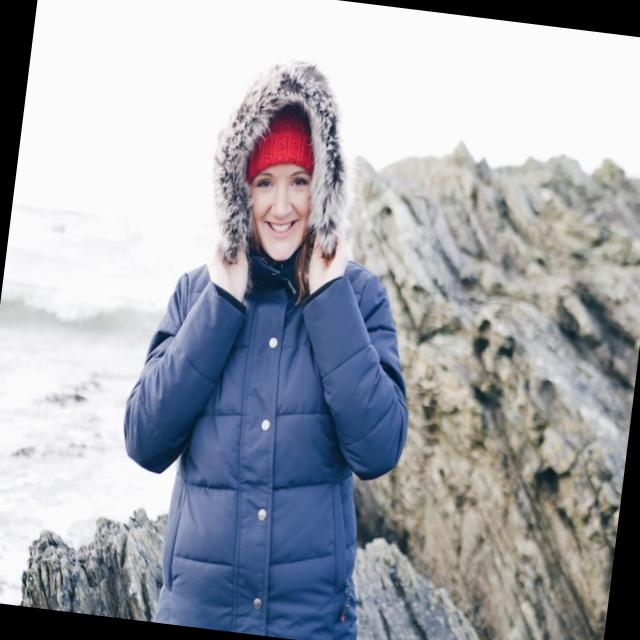Jacket: (98, 225, 419, 640)
